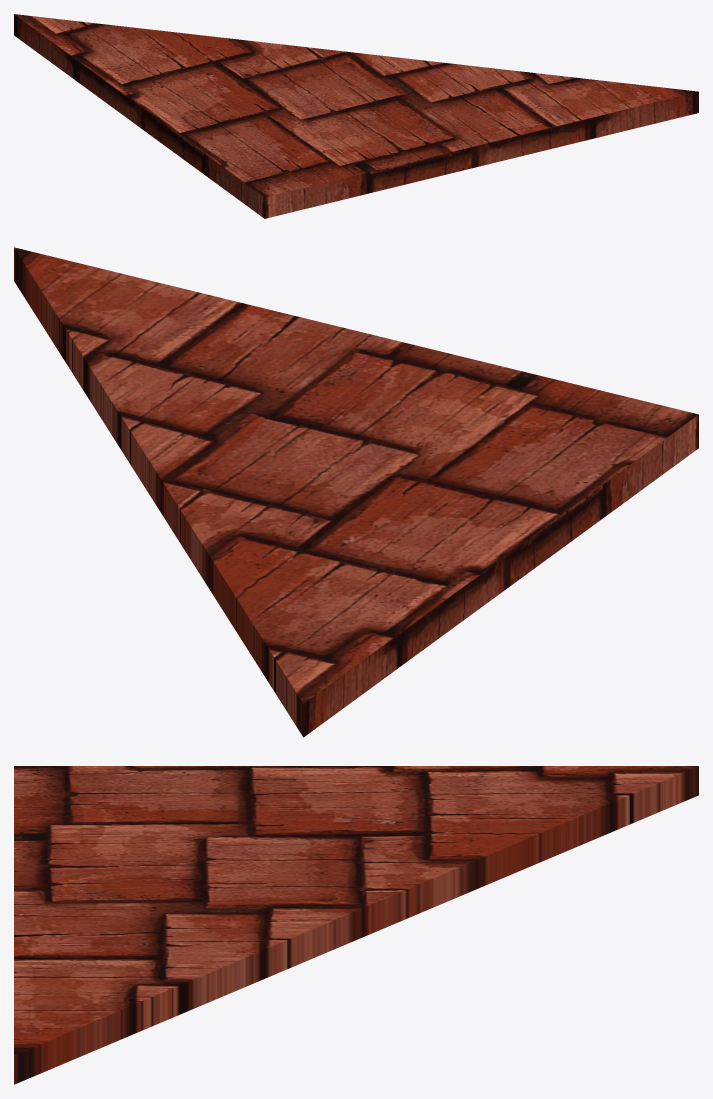
File: roof triangle.glb
The picture shows the model from 3 angles, top to bottom: view 1: azimuth 30°, elevation 25°; view 2: azimuth 150°, elevation 25°; view 3: azimuth 270°, elevation 25°; orthographic projection. The views are drawn at different scales.
Parts seen in each view (by area): view 1: Plane; view 2: Plane; view 3: Plane.
Part boxes in pixels (box(x1,y1,x2,y2)): Plane: box(14, 14, 698, 218); Plane: box(14, 247, 698, 737); Plane: box(14, 766, 698, 1084).
Bounding box in the file's own units: 1 × 0.047 × 1.
1 material, 1 textured.
